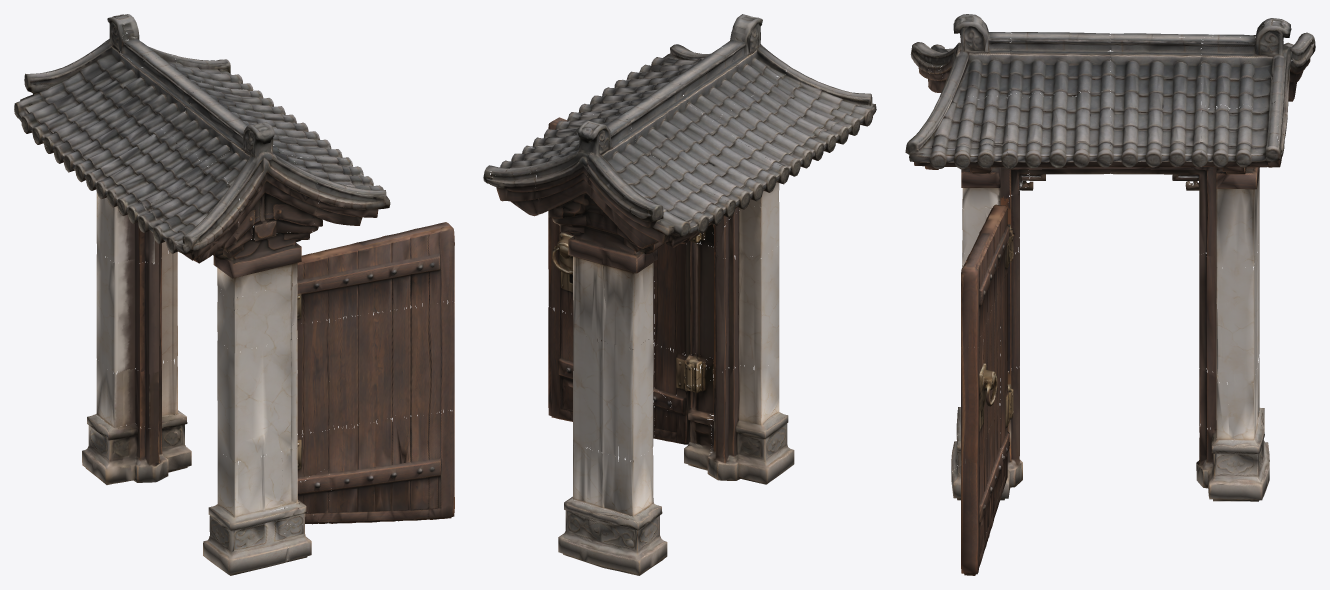
The model's file is hi3d-gate.glb.
3 renders of one model, left to right at view 1: azimuth 30°, elevation 25°; view 2: azimuth 150°, elevation 25°; view 3: azimuth 270°, elevation 25°, orthographic. The views are drawn at different scales.
Visible parts, largest first — view 1: gate; view 2: gate; view 3: gate.
Boxes of the visible parts, left/top/right/bottom form: gate: left=14, top=14, right=454, bottom=575; gate: left=483, top=14, right=876, bottom=575; gate: left=905, top=14, right=1315, bottom=575.
Size of the model in its own units: 2.14 by 3 by 2.42.
Materials: 1 (1 with a texture image).
